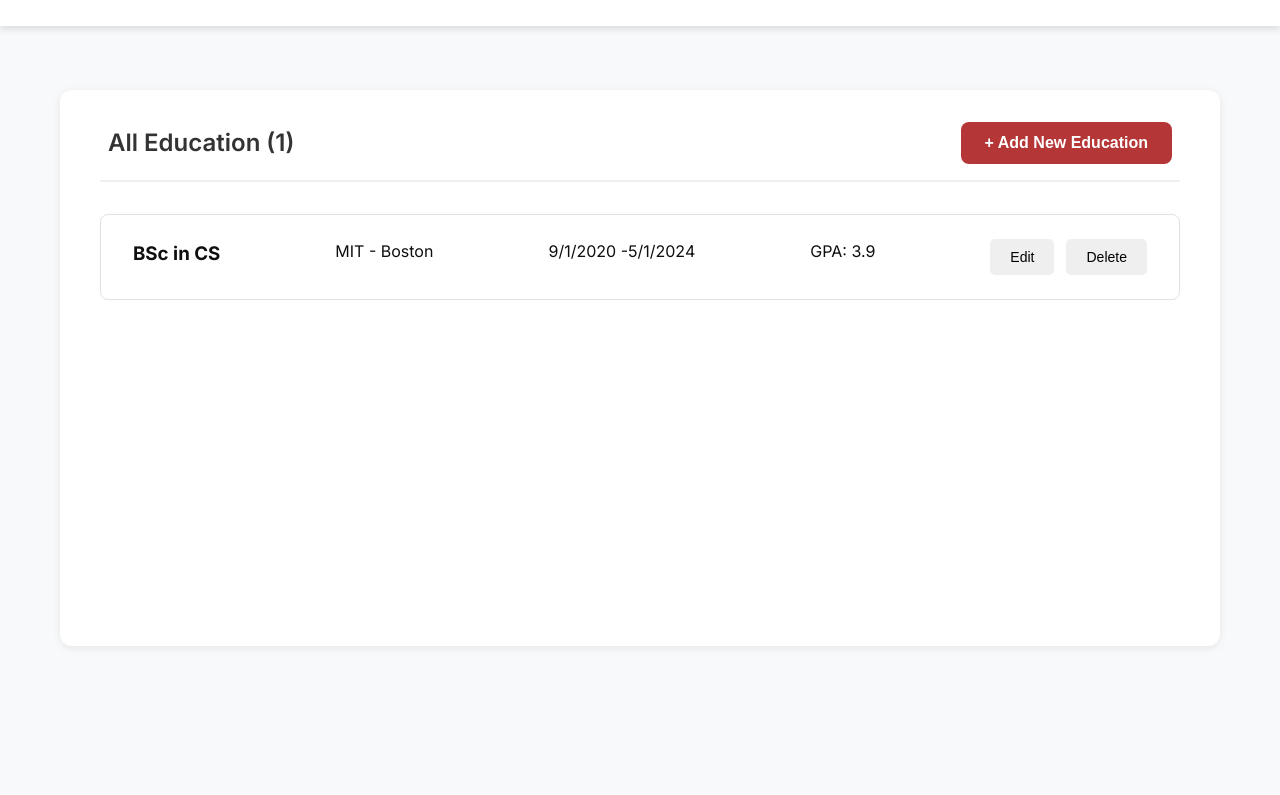
Test: AdminEducation › populates form when editing existing education
This screenshot has width=1280, height=795.
Click the button "Edit" at [1022, 257], box [990,239,1054,275]
(page scrolled)
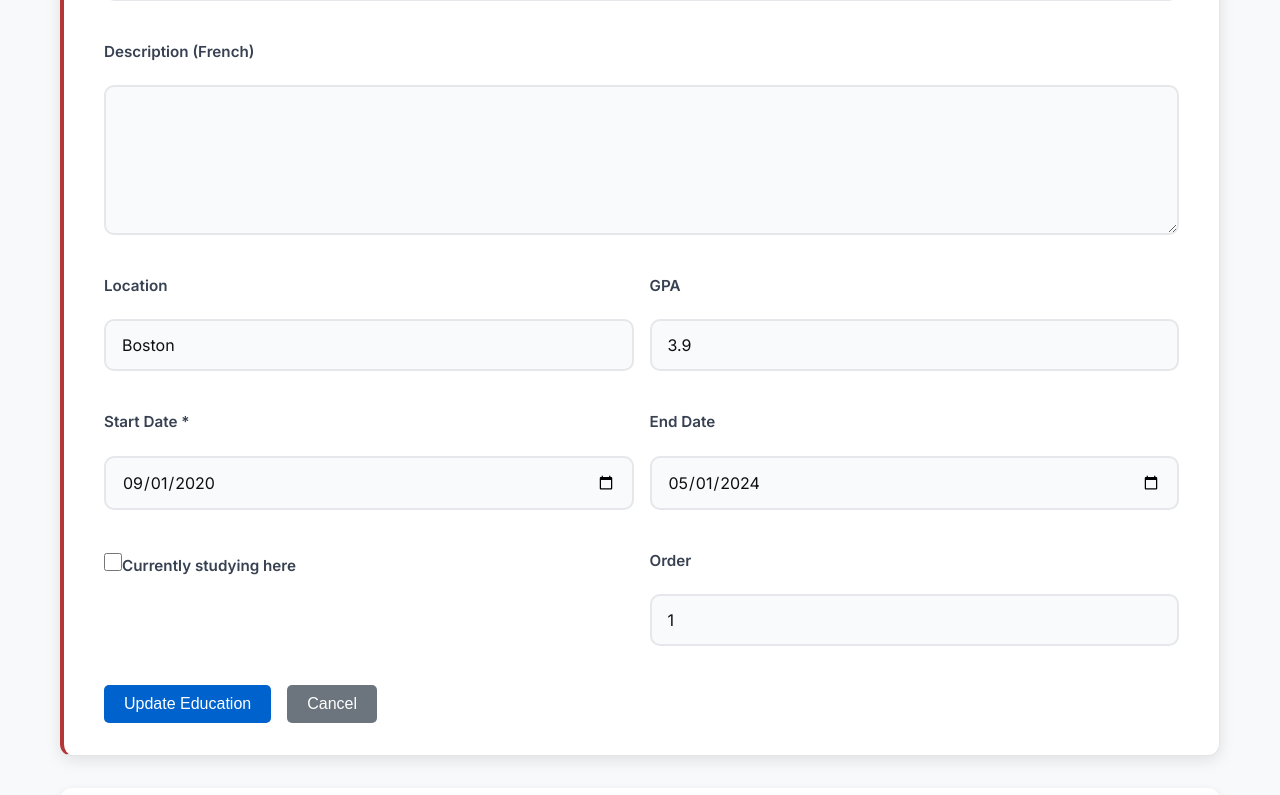
Expected: the field labelled "GPA" holds "3.9", [650,320,1179,372]
